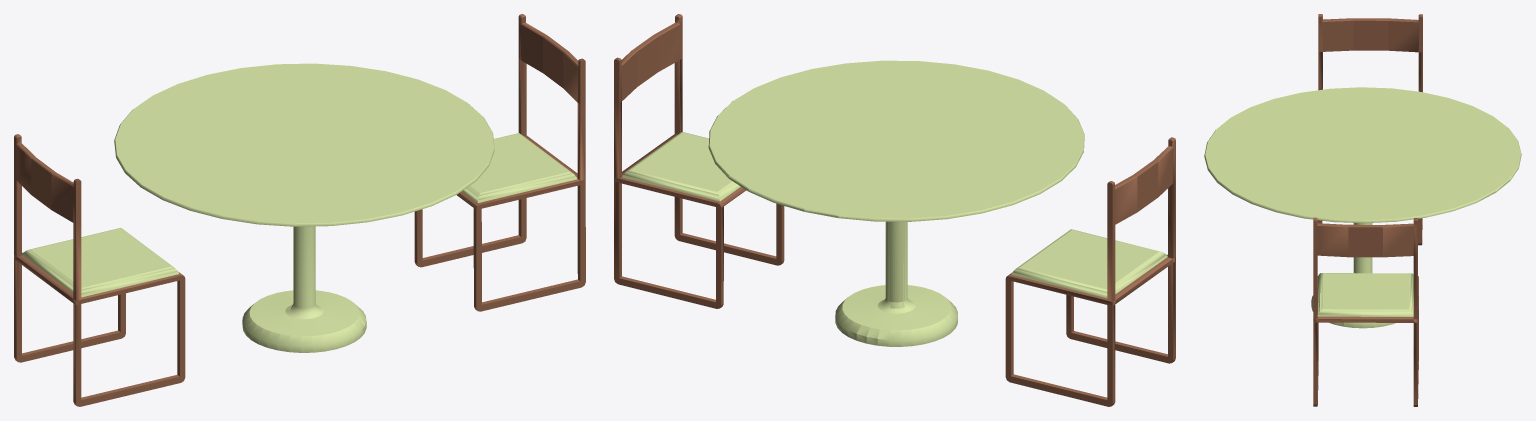
The model's file is Table.fbx.
3 renders of one model, left to right at view 1: azimuth 30°, elevation 25°; view 2: azimuth 150°, elevation 25°; view 3: azimuth 270°, elevation 25°, orthographic. The views are drawn at different scales.
Visible parts, largest first — view 1: table_top, chair__1_, chair; view 2: table_top, chair__1_, chair; view 3: table_top, chair, chair__1_.
Boxes of the visible parts, x1=… form: table_top: x1=114, y1=63, x2=494, y2=352; chair__1_: x1=14, y1=134, x2=185, y2=406; chair: x1=414, y1=14, x2=585, y2=311; table_top: x1=708, y1=60, x2=1084, y2=346; chair__1_: x1=1005, y1=137, x2=1175, y2=406; chair: x1=614, y1=14, x2=784, y2=308; table_top: x1=1204, y1=87, x2=1521, y2=328; chair: x1=1313, y1=217, x2=1418, y2=406; chair__1_: x1=1317, y1=14, x2=1422, y2=245.
Bounding box in the file's own units: 757 × 320 × 485.
